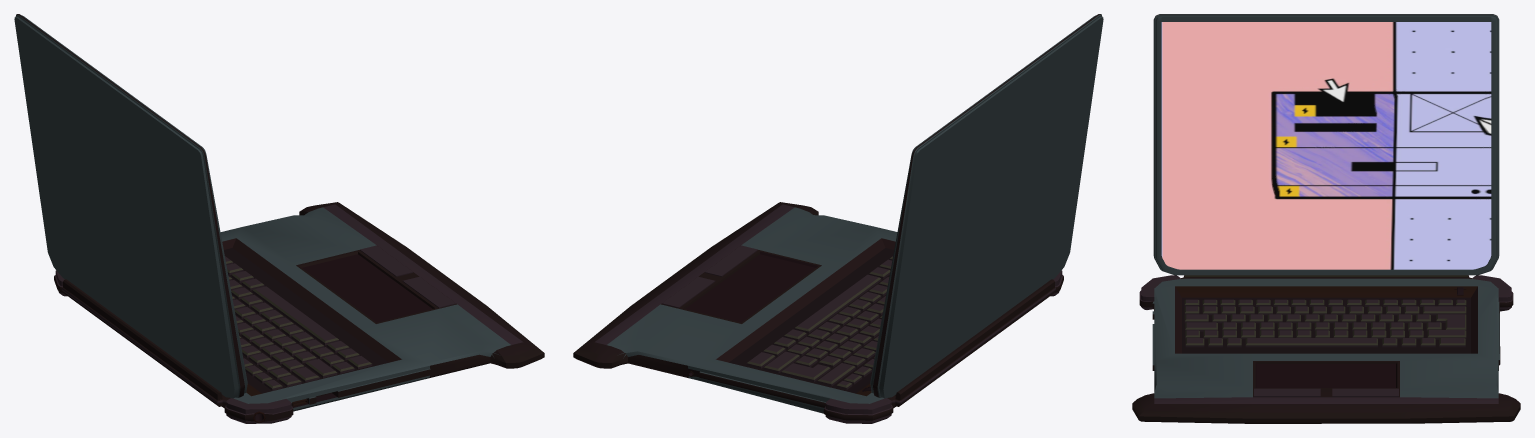
File: laptop-transformed.glb
3 views of the same model, side by side, from view 1: azimuth 30°, elevation 25°; view 2: azimuth 150°, elevation 25°; view 3: azimuth 270°, elevation 25° (orthographic). The views are drawn at different scales.
Parts seen in each view (by area): view 1: Cylinder.003; view 2: Cylinder.003; view 3: Cylinder.003.
Part boxes in pixels (x1,y1,x2,y2): Cylinder.003: (14,14,544,423); Cylinder.003: (573,14,1103,423); Cylinder.003: (1132,14,1520,423).
Bounding box in the file's own units: 5.18 × 4.2 × 5.6.
2 materials, 2 textured.
